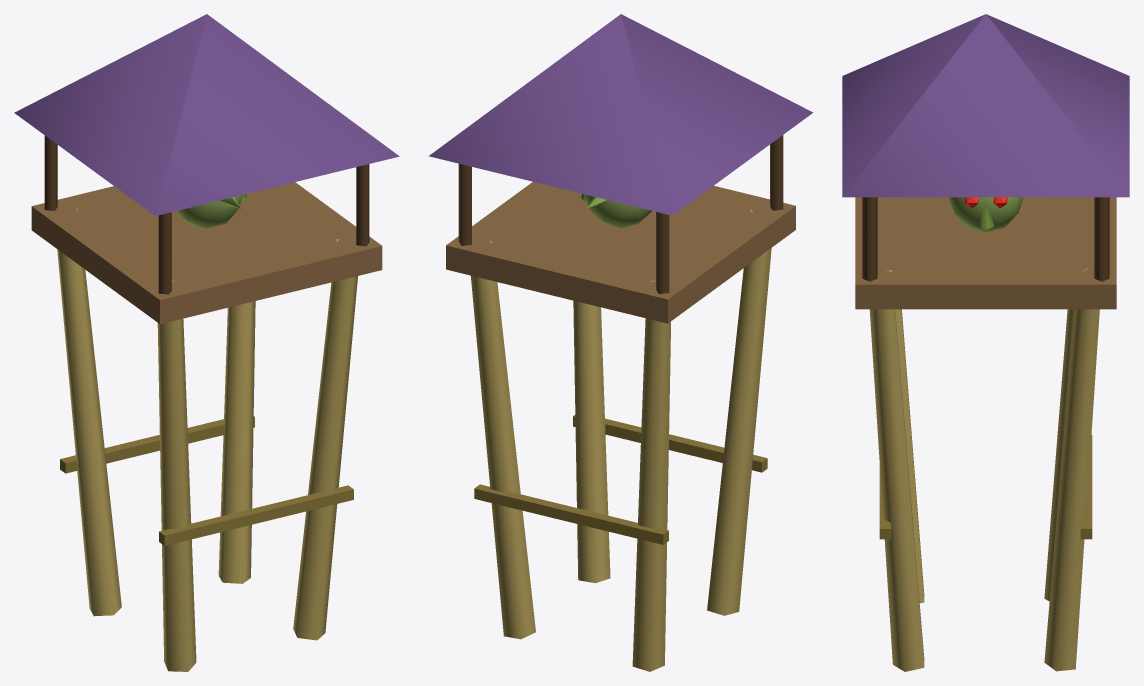
Rendered from goblin-level1.glb.
3 views of the same model, side by side, from view 1: azimuth 30°, elevation 25°; view 2: azimuth 150°, elevation 25°; view 3: azimuth 270°, elevation 25° (orthographic).
Visible parts, largest first — view 1: object 12, object 7, object 1, object 4, object 3, object 2, object 5, object 6, turret, object 10, object 11, object 8; view 2: object 12, object 7, object 3, object 2, object 1, object 4, object 6, object 5, turret, object 9, object 8, object 10; view 3: object 12, object 7, object 2, object 4, object 1, turret, object 3, object 9, object 11, object 6.
Part boxes in pixels (left/top/right/bottom): object 12: left=14, top=14, right=399, bottom=215; object 7: left=31, top=182, right=382, bottom=324; object 1: left=57, top=208, right=121, bottom=616; object 4: left=293, top=239, right=357, bottom=640; object 3: left=157, top=280, right=196, bottom=671; object 2: left=218, top=301, right=255, bottom=583; object 5: left=159, top=485, right=353, bottom=545; object 6: left=60, top=416, right=254, bottom=473; turret: left=176, top=194, right=246, bottom=228; object 10: left=158, top=212, right=171, bottom=294; object 11: left=356, top=164, right=369, bottom=246; object 8: left=44, top=135, right=57, bottom=210; object 12: left=429, top=14, right=813, bottom=215; object 7: left=446, top=182, right=795, bottom=323; object 3: left=707, top=209, right=771, bottom=615; object 2: left=470, top=239, right=535, bottom=639; object 1: left=632, top=280, right=670, bottom=671; object 4: left=573, top=300, right=610, bottom=583; object 6: left=474, top=484, right=668, bottom=544; object 5: left=573, top=415, right=767, bottom=472; turret: left=581, top=193, right=651, bottom=227; object 9: left=458, top=163, right=471, bottom=245; object 8: left=656, top=212, right=669, bottom=293; object 10: left=770, top=135, right=783, bottom=210; object 12: left=842, top=14, right=1129, bottom=197; object 7: left=855, top=197, right=1116, bottom=309; object 2: left=1044, top=268, right=1099, bottom=671; object 4: left=869, top=269, right=924, bottom=671; object 1: left=1044, top=309, right=1074, bottom=601; turret: left=948, top=197, right=1023, bottom=232; object 3: left=895, top=309, right=924, bottom=603; object 9: left=1094, top=197, right=1109, bottom=281; object 11: left=862, top=197, right=877, bottom=281; object 6: left=1080, top=435, right=1092, bottom=539.
Bounding box in the file's own units: 1.48 × 3.53 × 1.48.
